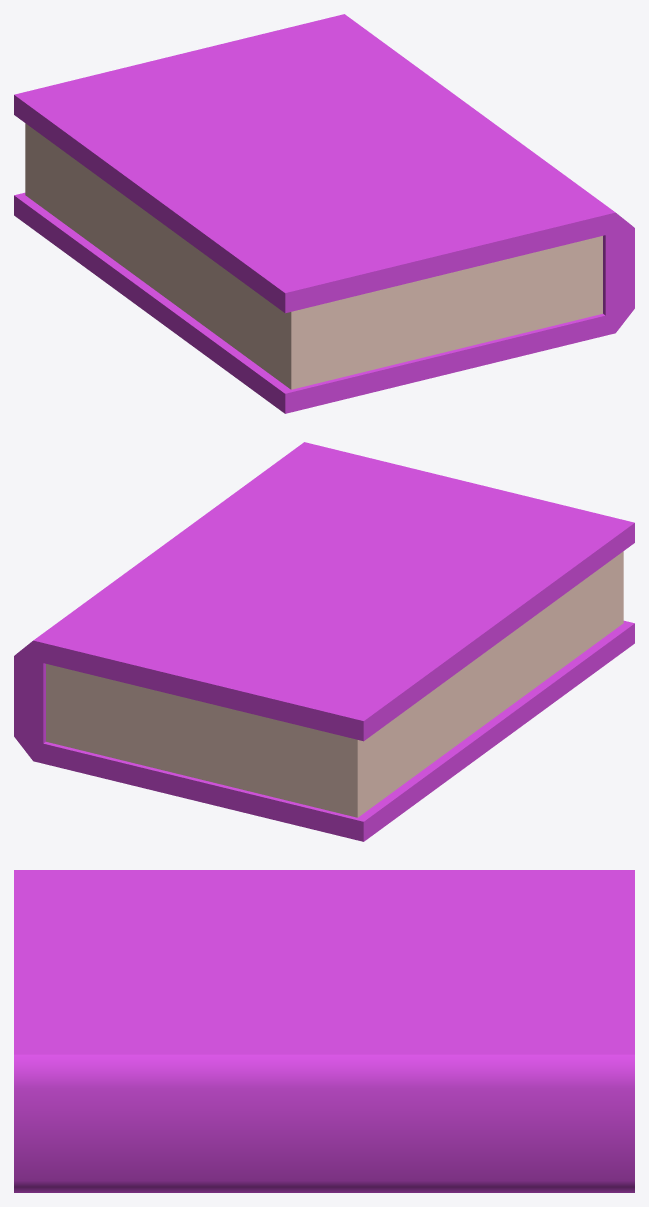
File: SM_Book_3.fbx
3 renders of one model, top to bottom at view 1: azimuth 30°, elevation 25°; view 2: azimuth 150°, elevation 25°; view 3: azimuth 270°, elevation 25°, orthographic. The views are drawn at different scales.
Visible parts, largest first — view 1: Book; view 2: Book; view 3: Book.
Part boxes in pixels (box(x1,y1,x2,y2)): Book: box(14, 14, 634, 413); Book: box(14, 442, 634, 841); Book: box(14, 870, 634, 1192).
Size of the model in its own units: 0.2677 by 0.0883 by 0.3595.
Materials: 1 (1 with a texture image).
